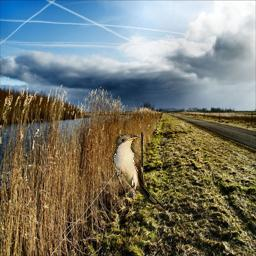Cuckoo: (112, 134, 166, 213)
